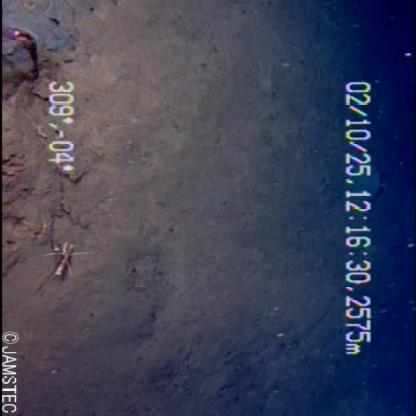Rác: (1, 22, 43, 104)
